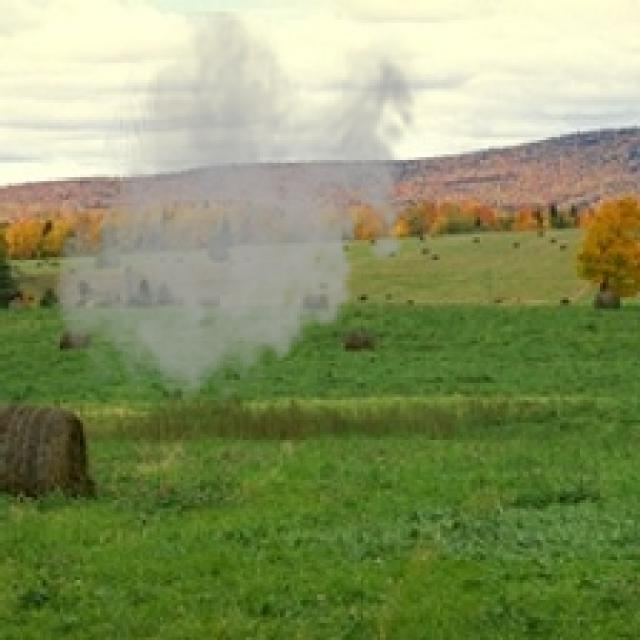Smoke: (46, 12, 428, 414)
